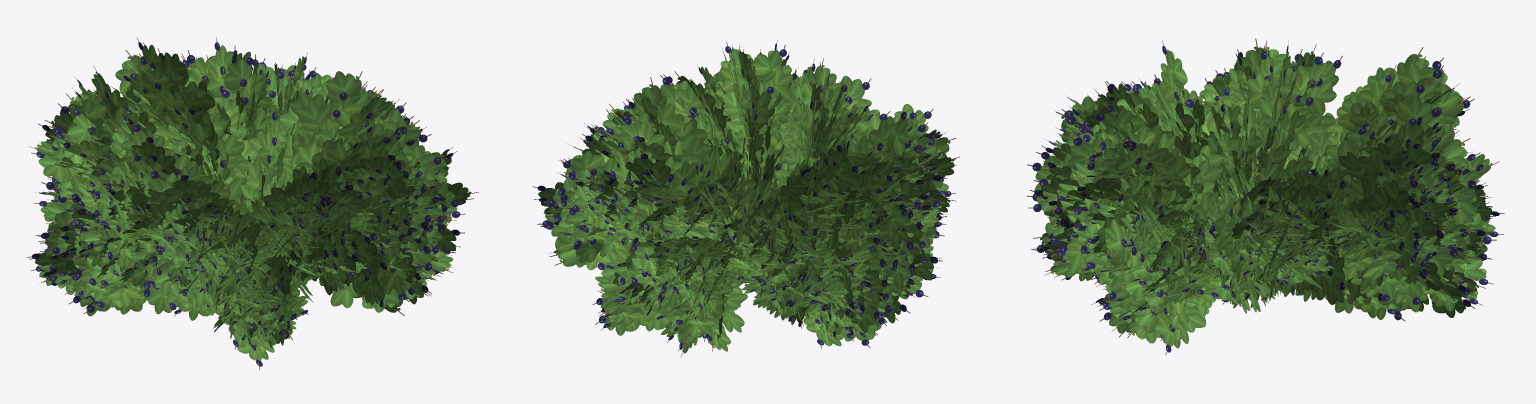
The model's file is bilberry_low_v01.glb.
3 renders of one model, left to right at view 1: azimuth 30°, elevation 25°; view 2: azimuth 150°, elevation 25°; view 3: azimuth 270°, elevation 25°, orthographic. The views are drawn at different scales.
Visible parts, largest first — view 1: bilberry_low_v01; view 2: bilberry_low_v01; view 3: bilberry_low_v01.
Part boxes in pixels (x1=…): bilberry_low_v01: x1=26, y1=37, x2=478, y2=369; bilberry_low_v01: x1=532, y1=40, x2=959, y2=357; bilberry_low_v01: x1=1027, y1=38, x2=1504, y2=355.
Size of the model in its own units: 0.5675 by 0.38 by 0.6018.
Materials: 2 (2 with a texture image).
